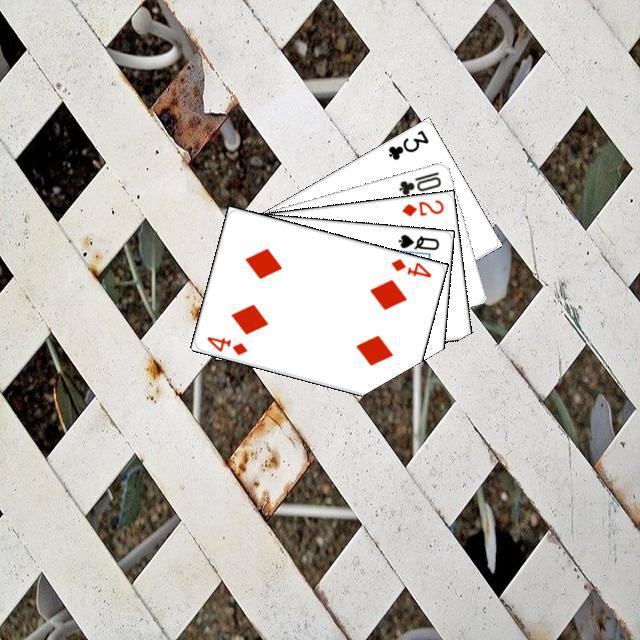10c: (394, 167, 443, 197)
2d: (397, 195, 445, 218)
3c: (383, 125, 430, 162)
4d: (386, 254, 433, 279), (202, 332, 249, 357)
Qs: (393, 230, 441, 252)
